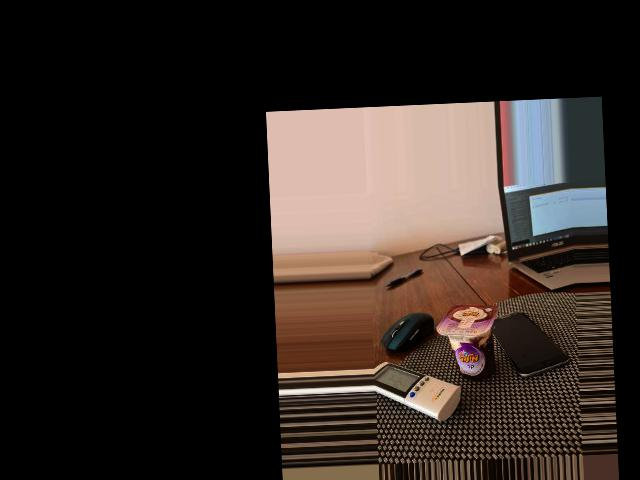milky: (442, 302, 502, 381)
